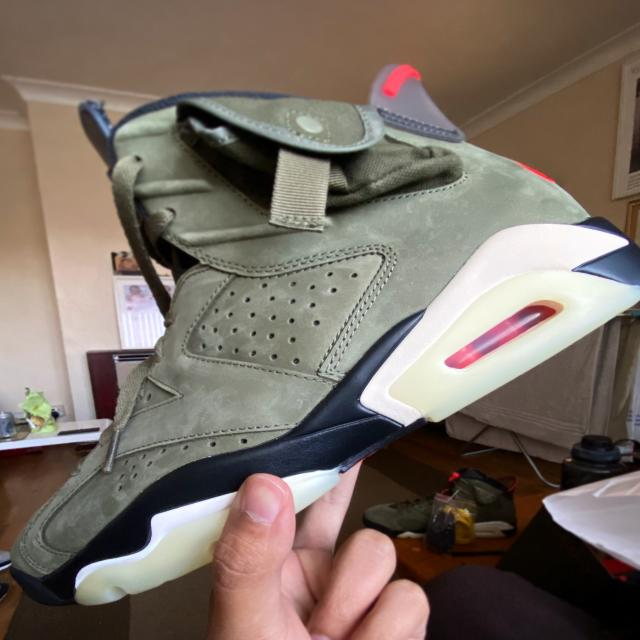shoe: (6, 62, 640, 608)
